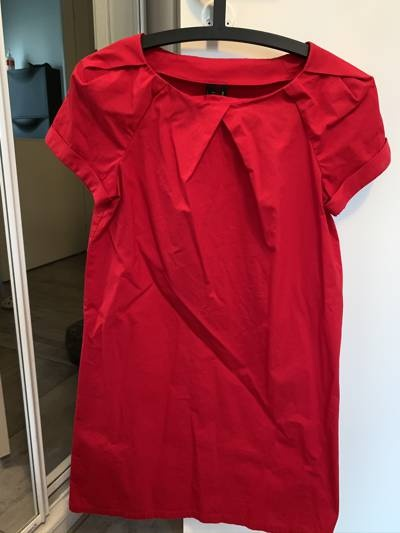Dress: (36, 23, 397, 529)
